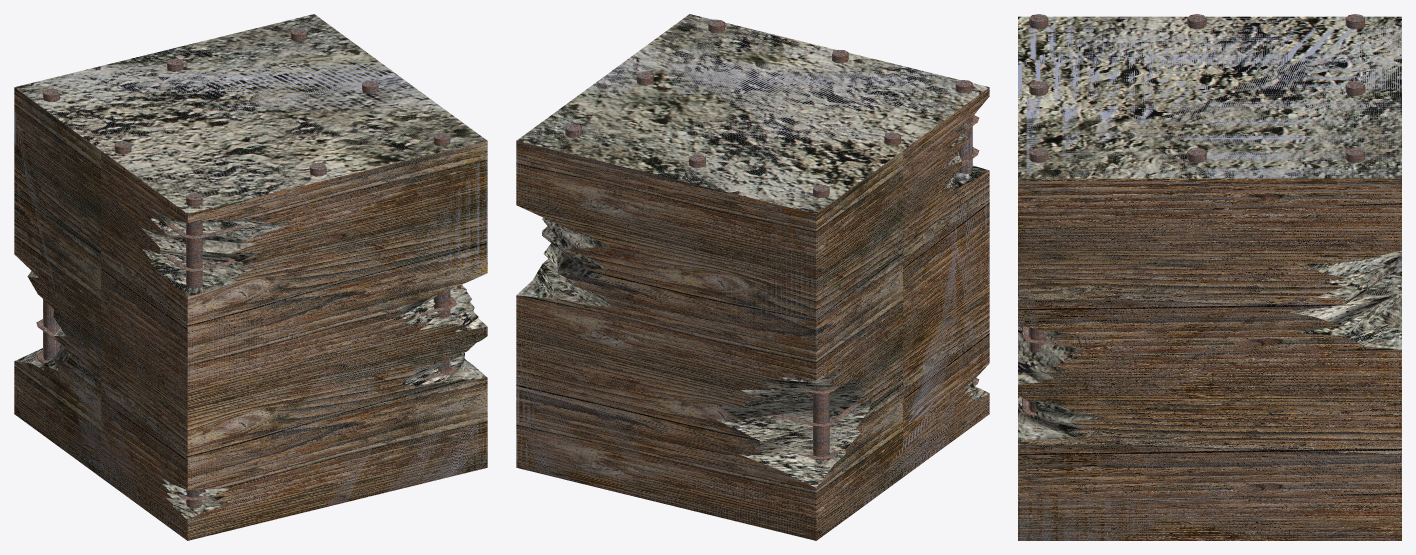
3 views of the same model, side by side, from view 1: azimuth 30°, elevation 25°; view 2: azimuth 150°, elevation 25°; view 3: azimuth 270°, elevation 25° (orthographic). The views are drawn at different scales.
Visible parts, largest first — view 1: C-800sqr (×7), Rebar01 (×3); view 2: C-800sqr (×5), Rebar01 (×2); view 3: C-800sqr (×5), Rebar01.
Boxes of the visible parts, x1,y1,x2,y2 form: C-800sqr (×7): (14, 14, 487, 540); Rebar01 (×3): (43, 88, 450, 508); C-800sqr (×5): (516, 14, 989, 540); Rebar01 (×2): (813, 80, 972, 460); C-800sqr (×5): (1018, 16, 1401, 540); Rebar01: (1029, 147, 1048, 412).
Bounding box in the file's own units: 37.8 × 37.8 × 40.16.
4 materials, 3 textured.
